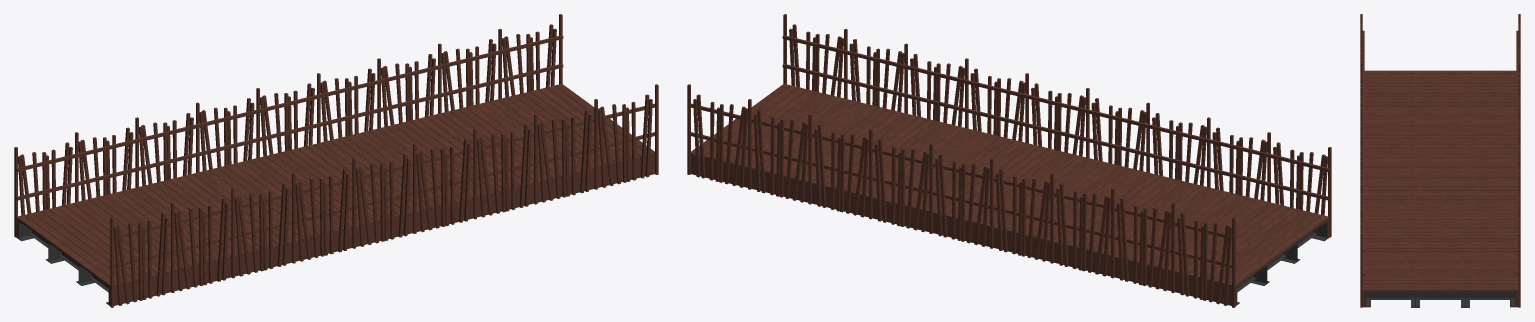
Rendered from Beam_Reed.glb.
3 renders of one model, left to right at view 1: azimuth 30°, elevation 25°; view 2: azimuth 150°, elevation 25°; view 3: azimuth 270°, elevation 25°, orthographic. The views are drawn at different scales.
Bounding box in the file's own units: 10.02 × 1.58 × 3.09.
Materials: 2 (1 with a texture image).
